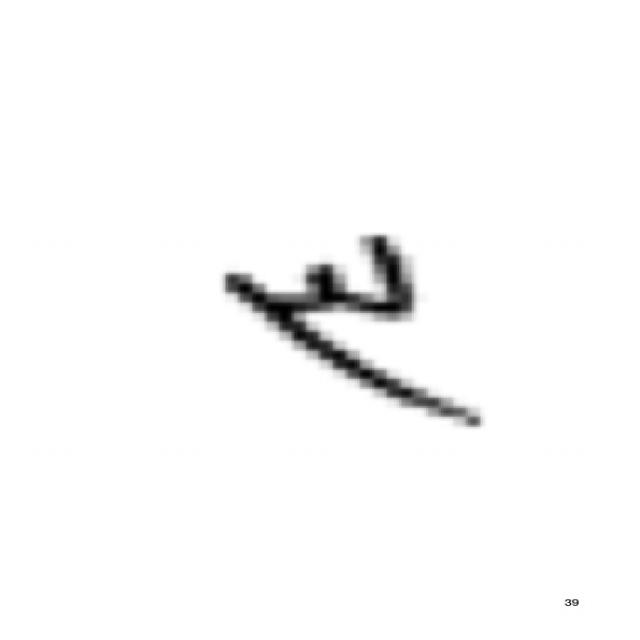3 -three-: (204, 222, 514, 443)
